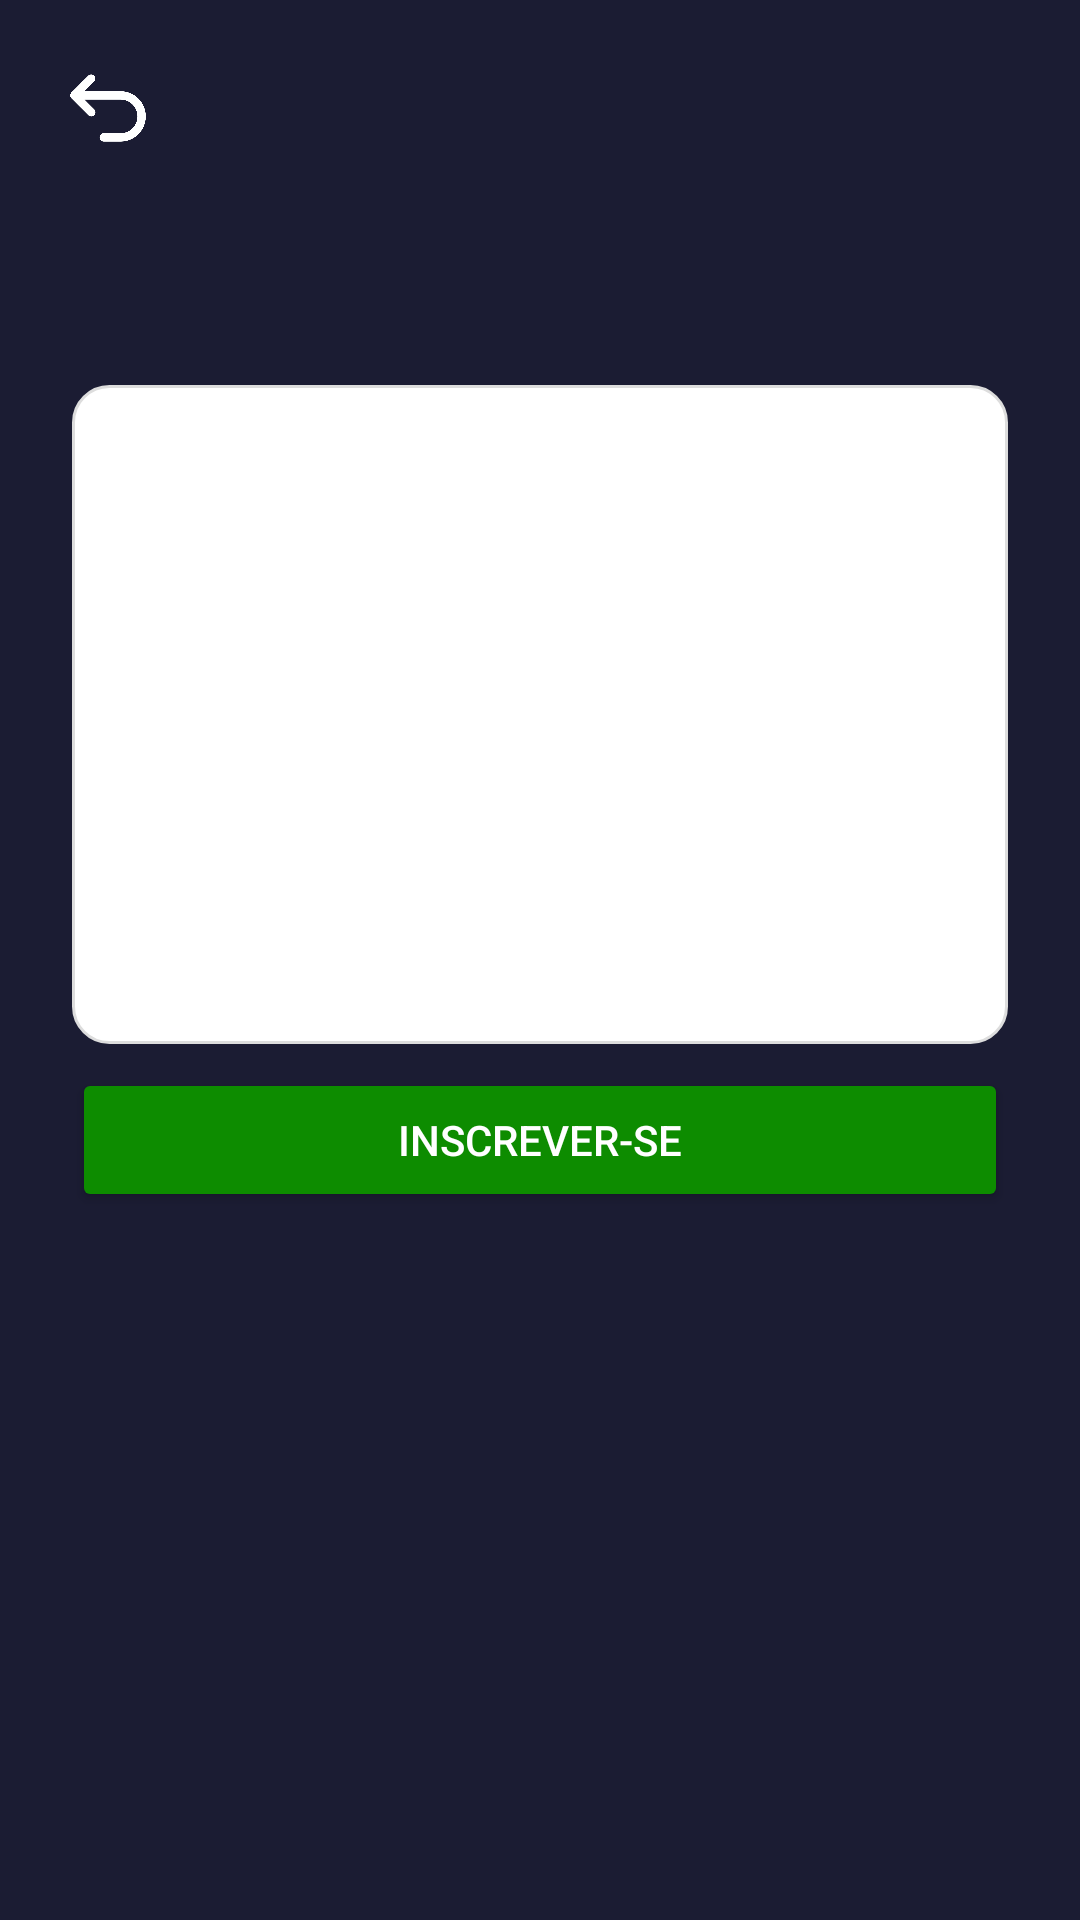

Screen size 1080px×1920px. Icon name, then its center in pixels as (x=x, y=y):
Voltar: (x=108, y=108)
